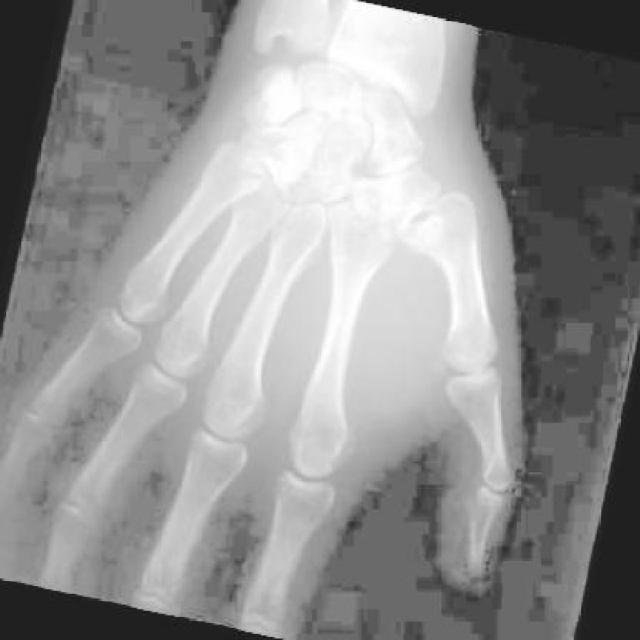Fracture: (386, 171, 477, 273)
